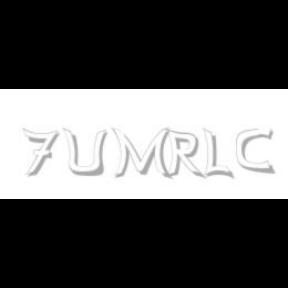7: (22, 128, 60, 178)
C: (236, 128, 274, 174)
L: (203, 128, 231, 180)
M: (112, 128, 170, 180)
R: (165, 128, 203, 180)
U: (62, 128, 106, 178)
